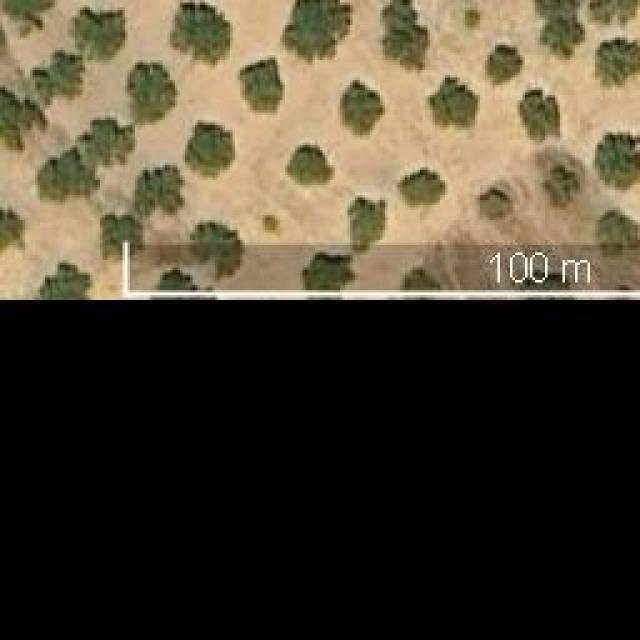Tree: (37, 115, 135, 195), (165, 0, 233, 70), (285, 0, 350, 58), (378, 0, 428, 67), (530, 0, 585, 58), (0, 88, 48, 153), (127, 64, 175, 125), (235, 57, 285, 115), (337, 78, 385, 138), (73, 8, 126, 61), (185, 120, 235, 175), (398, 168, 448, 223), (30, 48, 85, 98), (195, 218, 243, 271), (430, 78, 480, 128), (595, 135, 640, 190), (597, 210, 640, 267), (135, 165, 183, 215), (345, 198, 388, 253), (518, 90, 561, 143), (298, 250, 351, 293), (595, 38, 640, 88), (100, 210, 145, 260), (285, 143, 335, 186), (32, 263, 90, 298), (398, 260, 442, 299), (543, 165, 578, 208), (163, 265, 203, 298), (490, 45, 523, 83), (0, 207, 25, 255), (478, 188, 513, 221), (590, 0, 640, 22), (465, 10, 480, 28), (263, 215, 278, 230)
